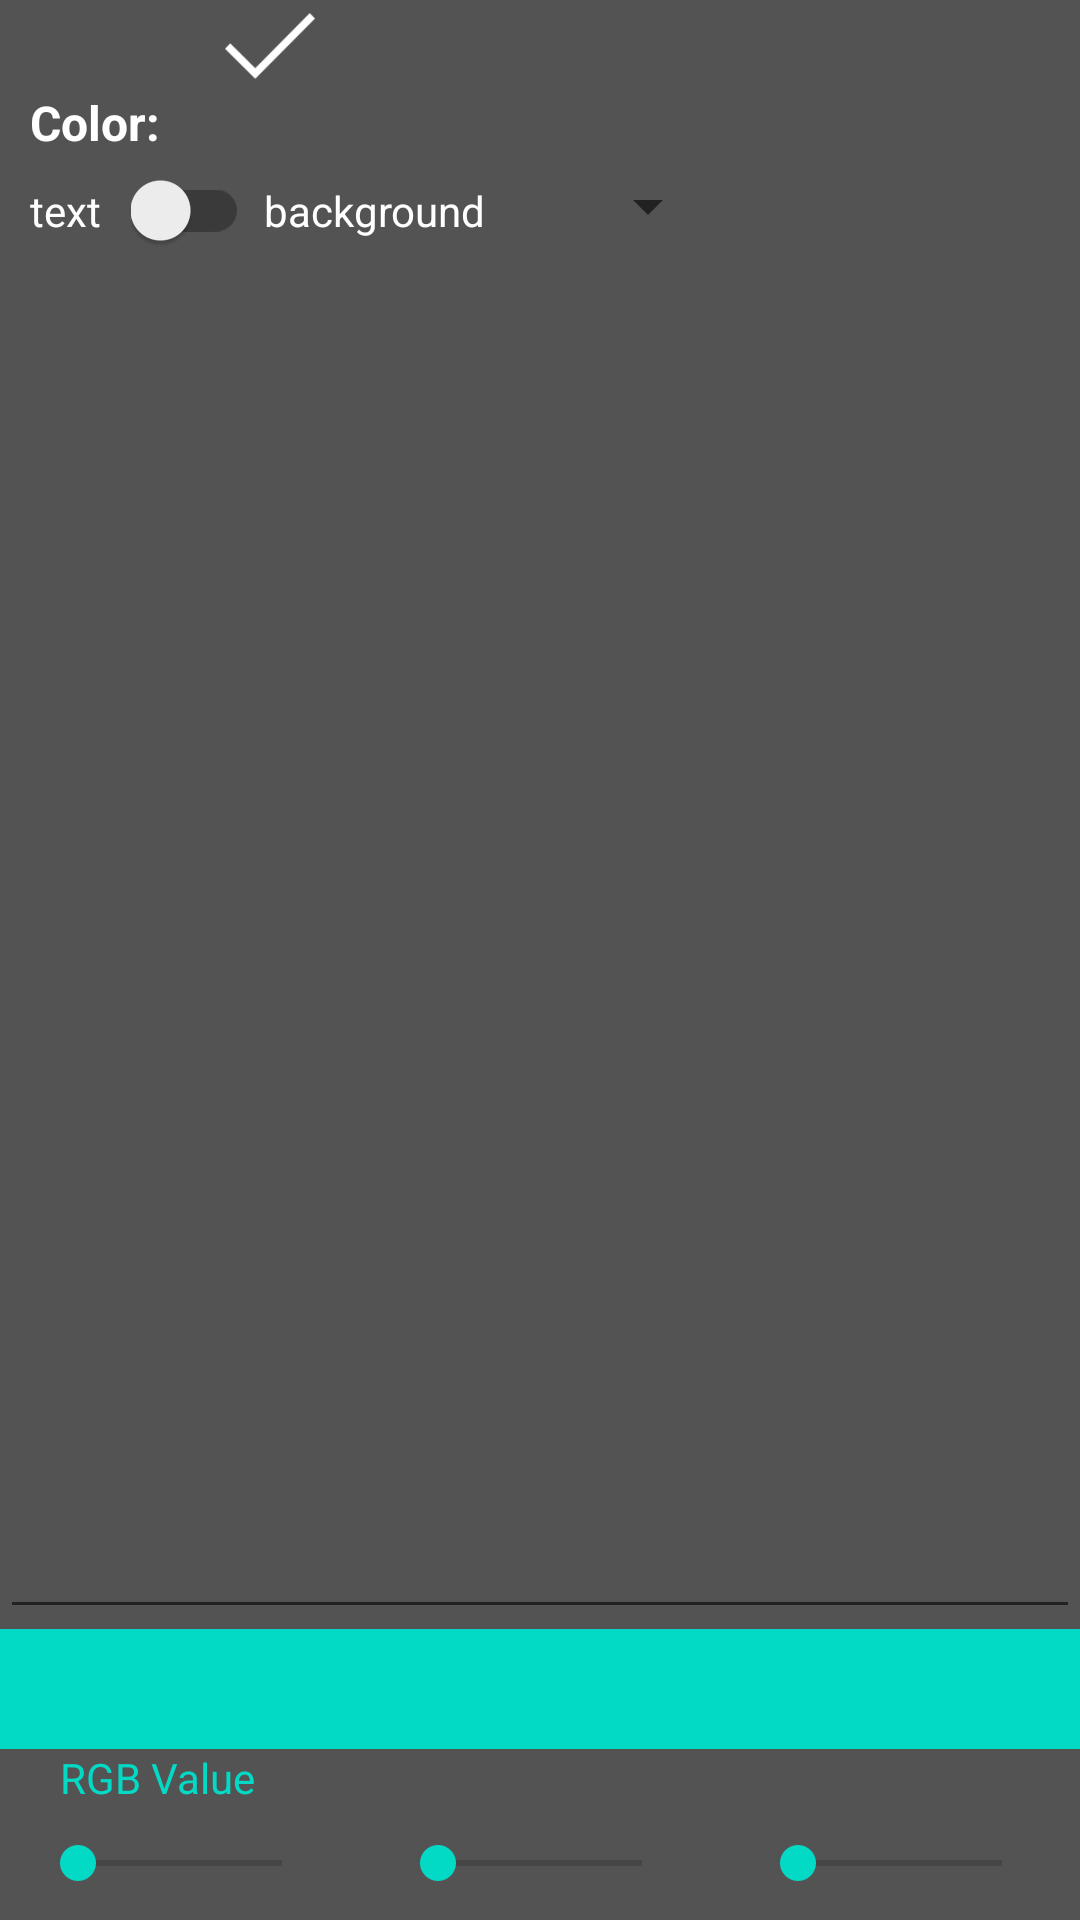

Icons on this 1080 x 1920 Android screen, each with the point to tap as (x,y):
correct: (270,46)
